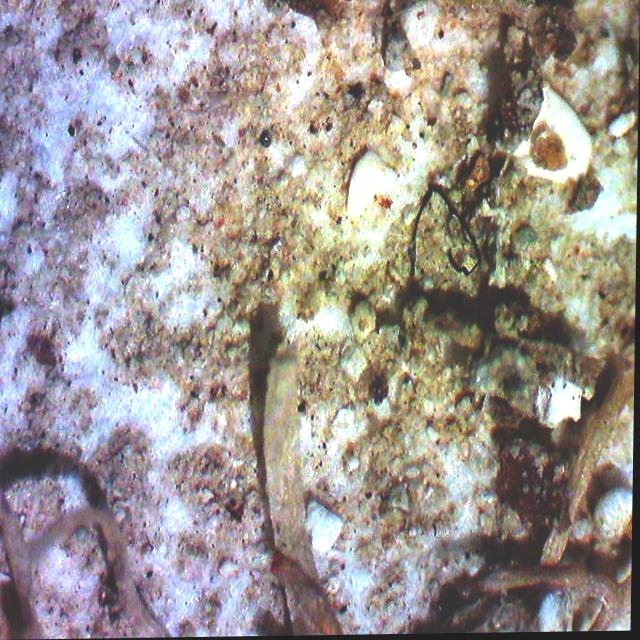microplastic: (411, 189, 483, 284)
